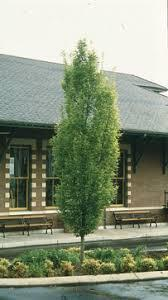tree: (45, 32, 129, 268)
